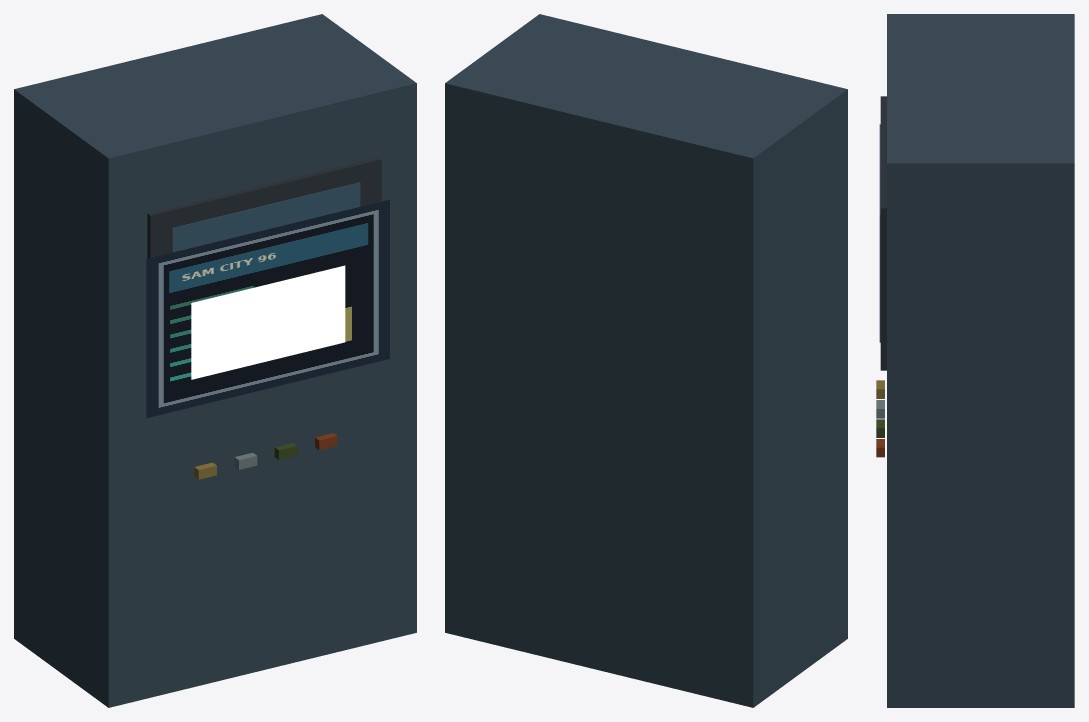
The model's file is jukebox.glb.
3 renders of one model, left to right at view 1: azimuth 30°, elevation 25°; view 2: azimuth 150°, elevation 25°; view 3: azimuth 270°, elevation 25°, orthographic.
Visible parts, largest first — view 1: body, printed_surface, emissive_panel; view 2: body; view 3: body.
Boxes of the visible parts, <box> form: body: <box>14,14,416,707</box>; printed_surface: <box>146,199,389,418</box>; emissive_panel: <box>191,265,345,379</box>; body: <box>445,14,847,707</box>; body: <box>876,14,1074,707</box>.
Bounding box in the file's own units: 0.828 × 1.41 × 0.4655.
Materials: 3 (3 with a texture image).
